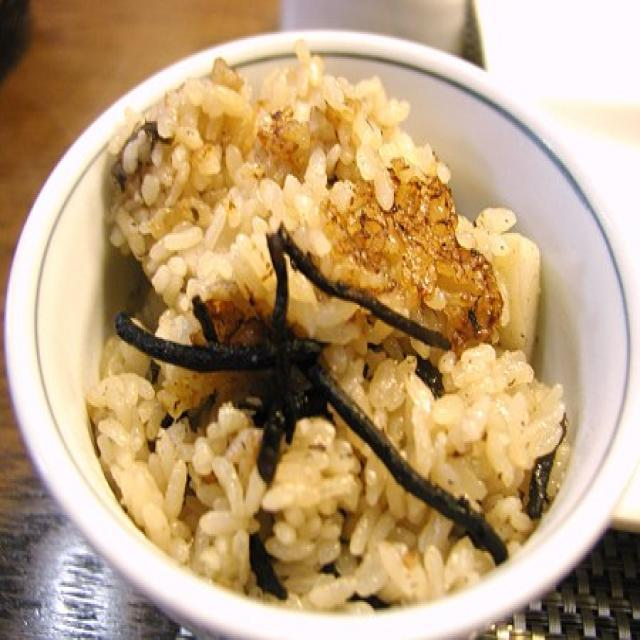米饭主食: (17, 32, 632, 623)
